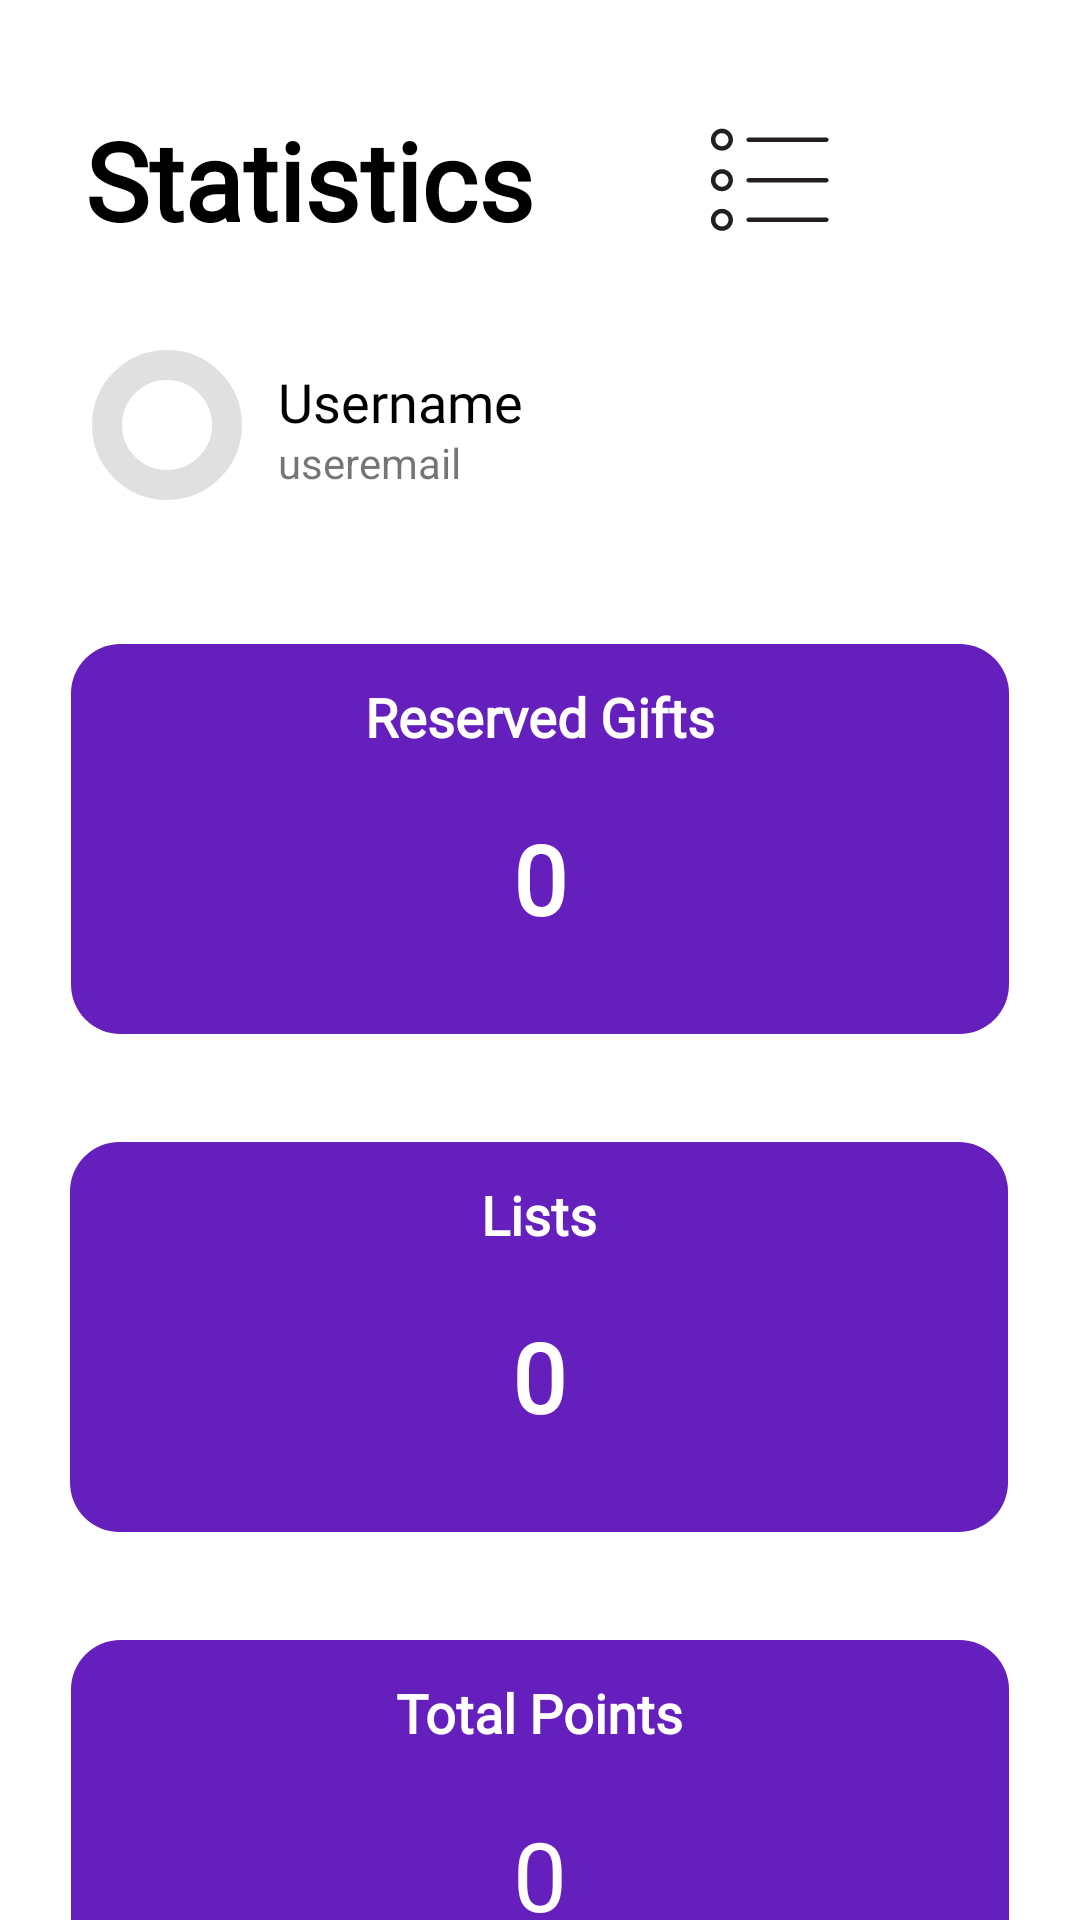

Point at icon controls on the screen. Image size 1080px x 1920px, points as (x=x, y=y).
button of show lists: (x=770, y=179)
